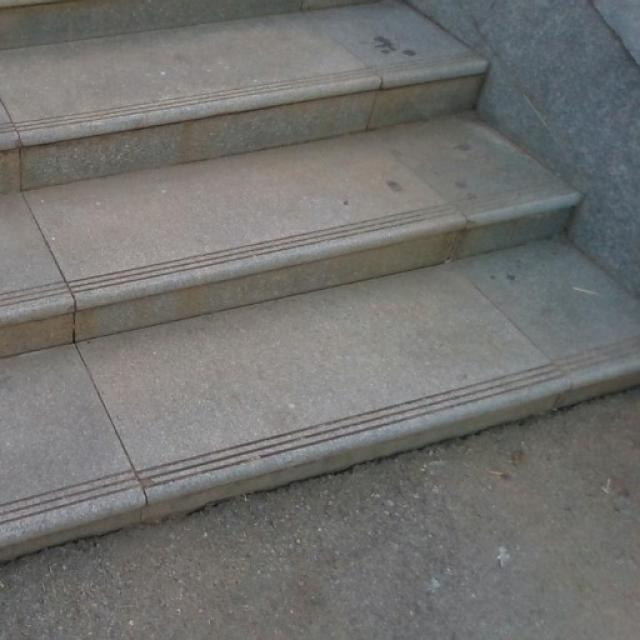Stairs: (0, 0, 639, 571)
